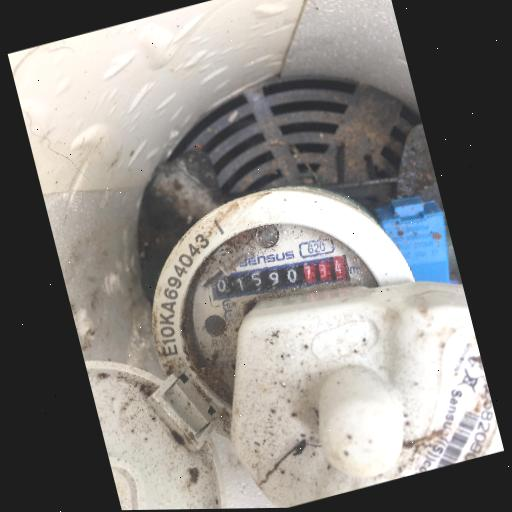0: (280, 263, 305, 288), (213, 274, 235, 298)
1: (229, 271, 252, 296)
3: (315, 259, 336, 283)
4: (328, 253, 353, 285)
5: (245, 268, 269, 293)
7: (298, 260, 323, 286)
9: (262, 266, 286, 291)
border_water_meter_number: (204, 240, 355, 322)
